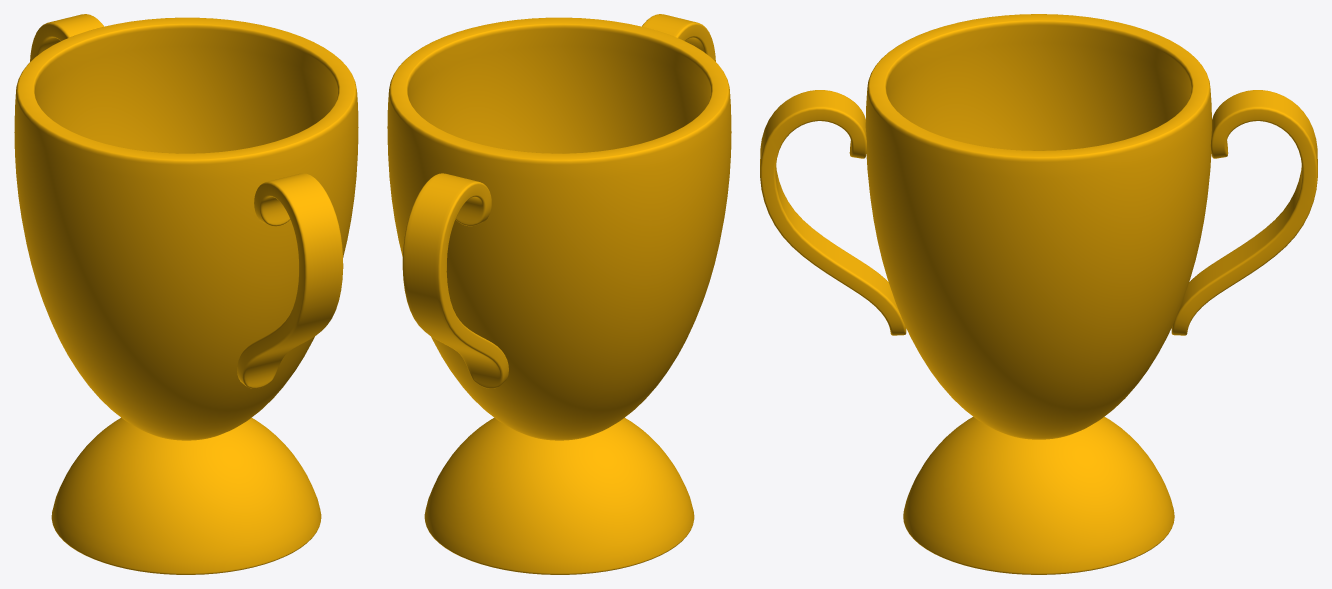
File: winners_cup.glb
The picture shows the model from 3 angles, left to right: view 1: azimuth 30°, elevation 25°; view 2: azimuth 150°, elevation 25°; view 3: azimuth 270°, elevation 25°; orthographic projection.
Visible parts, largest first — view 1: Object_2; view 2: Object_2; view 3: Object_2.
Part boxes in pixels (left/top/right/bottom): Object_2: left=14, top=14, right=358, bottom=574; Object_2: left=387, top=14, right=731, bottom=574; Object_2: left=760, top=14, right=1317, bottom=574.
Bounding box in the file's own units: 1.7 × 2.34 × 2.74.
